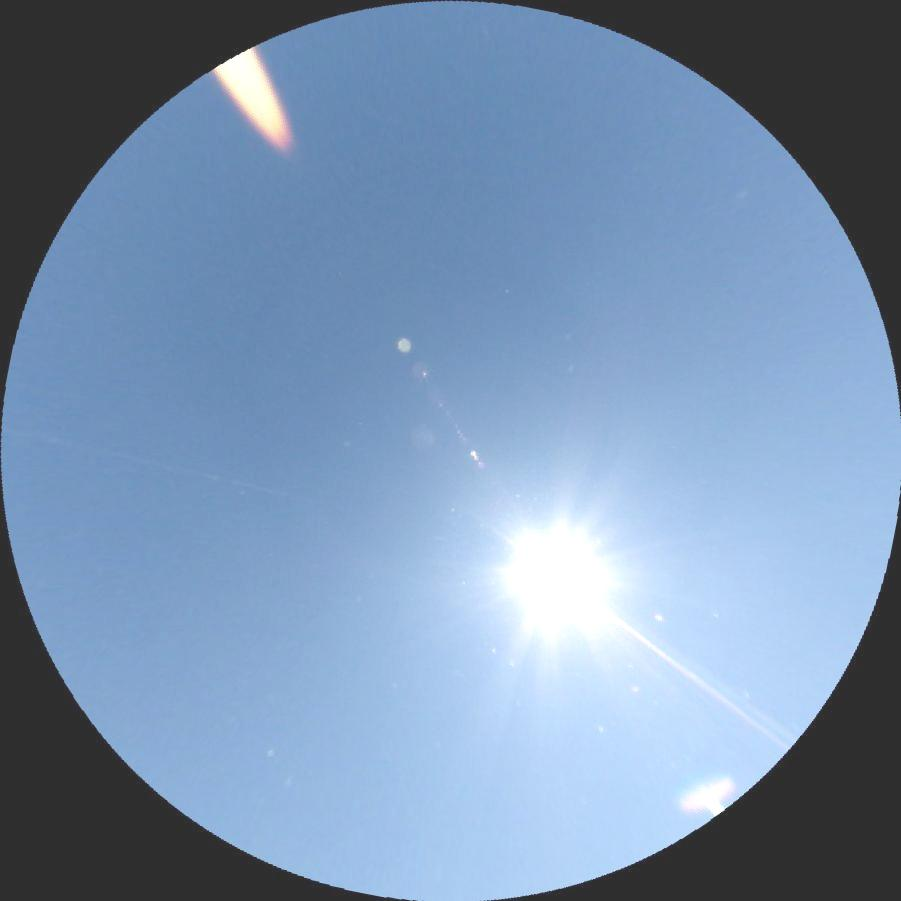parasite: (593, 600, 786, 748), (23, 430, 285, 495)
sun: (499, 518, 610, 631)
